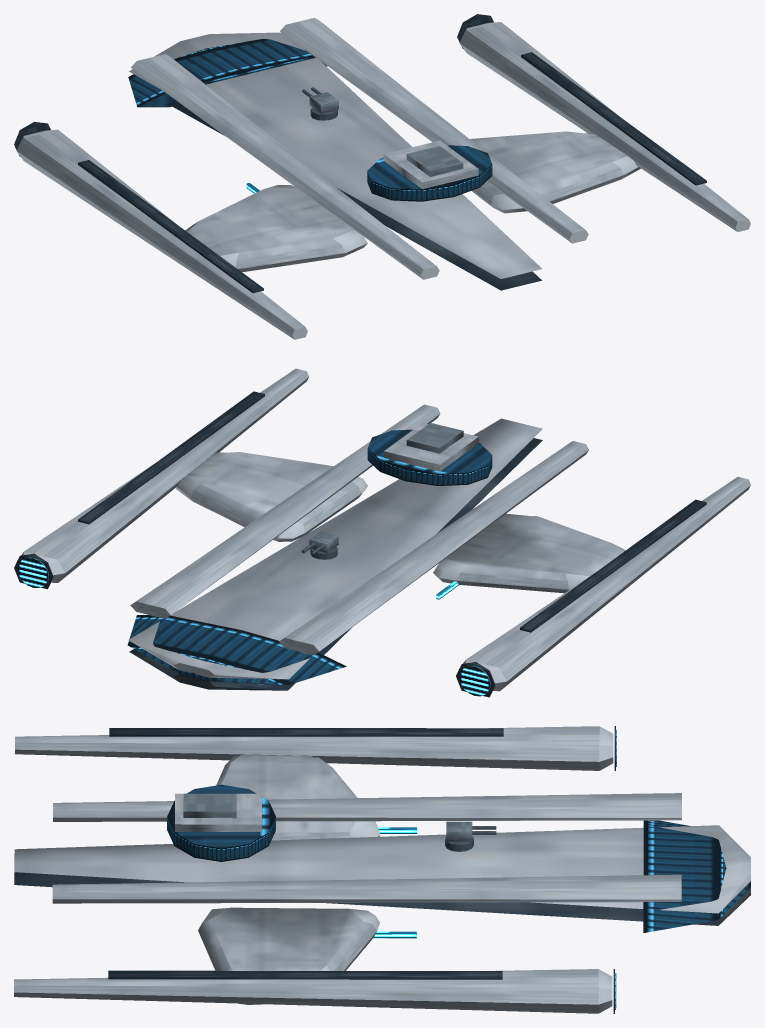
Rendered from alliance_cruiser_recreated_lod2.glb.
3 renders of one model, top to bottom at view 1: azimuth 30°, elevation 25°; view 2: azimuth 150°, elevation 25°; view 3: azimuth 270°, elevation 25°, orthographic. The views are drawn at different scales.
Visible parts, largest first — view 1: alliance_cruiser_far_source; view 2: alliance_cruiser_far_source; view 3: alliance_cruiser_far_source.
Boxes of the visible parts, left/top/right/bottom form: alliance_cruiser_far_source: left=14, top=14, right=750, bottom=339; alliance_cruiser_far_source: left=14, top=368, right=750, bottom=697; alliance_cruiser_far_source: left=14, top=726, right=750, bottom=1013.
Size of the model in its own units: 1.64 by 0.2403 by 1.9.
Materials: 1 (1 with a texture image).
